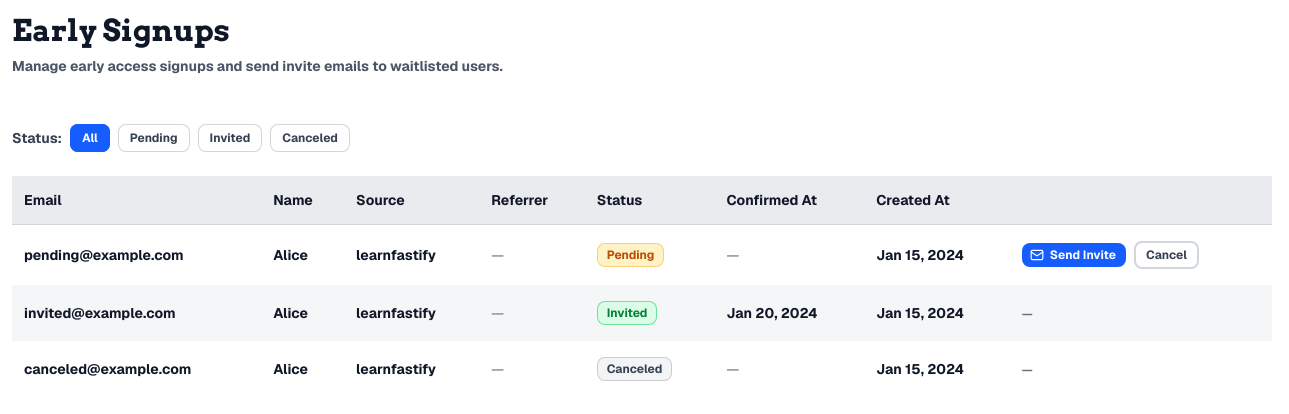
Scenario: AdminEarlySignupsPage › filters rows by selected status
Click the button "Pending" at (154, 138), box [118,124,190,152]
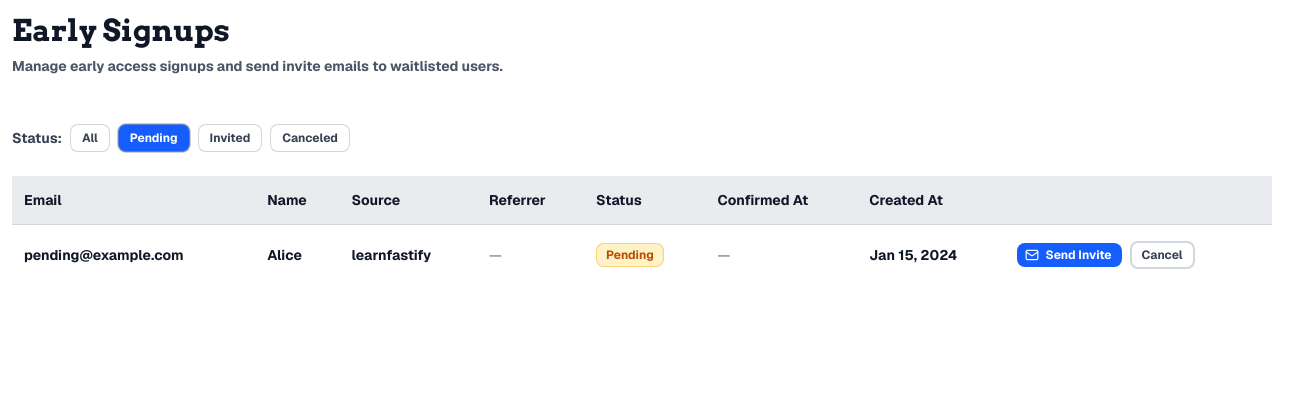
Check: the text "pending@example.com" is shown, box [12,224,255,285]
Check: the text "invited@example.com" is gone
Check: the text "canceled@example.com" is gone
Click the button "Invited" at (230, 138), box [198,124,262,152]
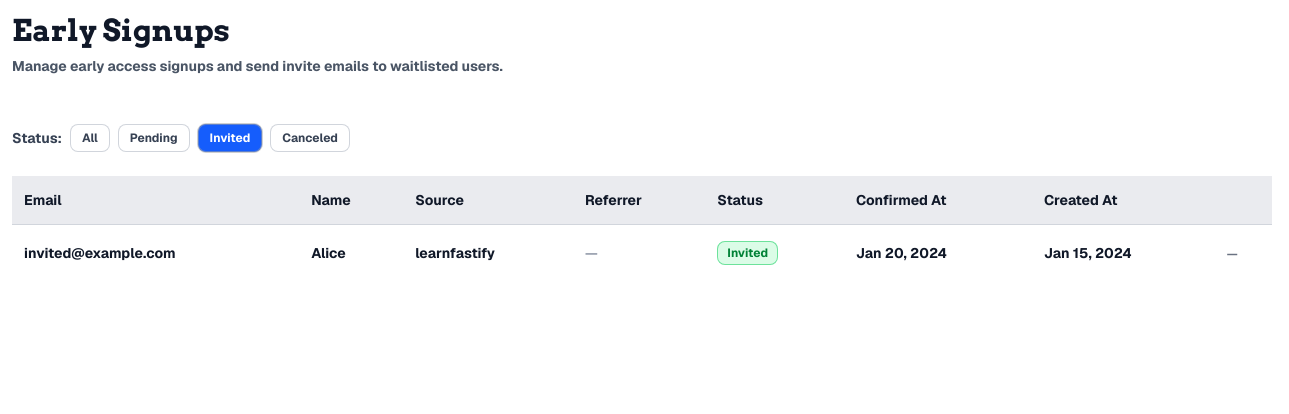
Check: the text "invited@example.com" is shown, box [12,224,299,281]
Check: the text "pending@example.com" is gone
Click the button "Canceled" at (310, 138), box [270,124,350,152]
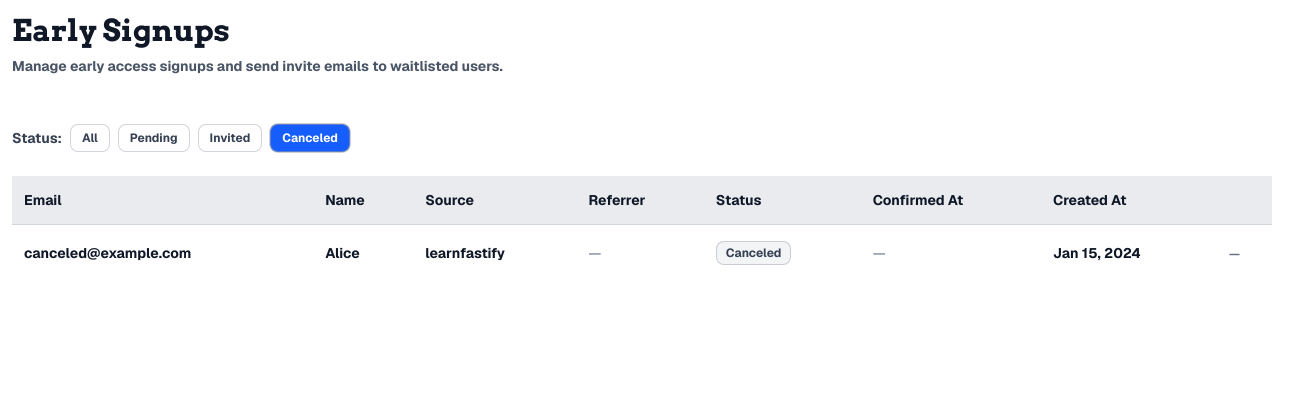
Check: the text "canceled@example.com" is shown, box [12,224,313,281]
Check: the text "invited@example.com" is gone
Click the button "All" at (90, 138), box [70,124,110,152]
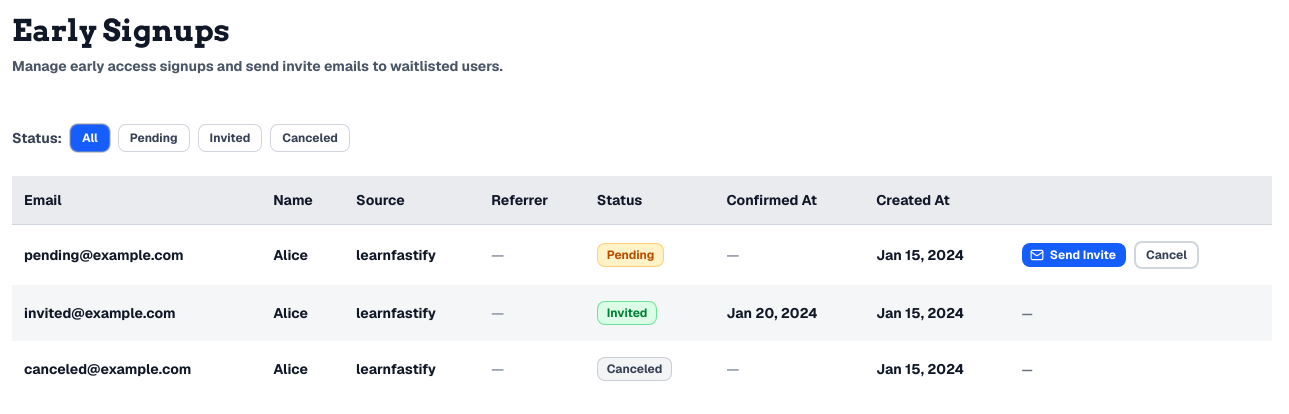
Check: the text "canceled@example.com" is shown, box [12,341,261,397]
Check: the text "pending@example.com" is shown, box [12,224,261,285]
Check: the text "invited@example.com" is shown, box [12,285,261,341]
